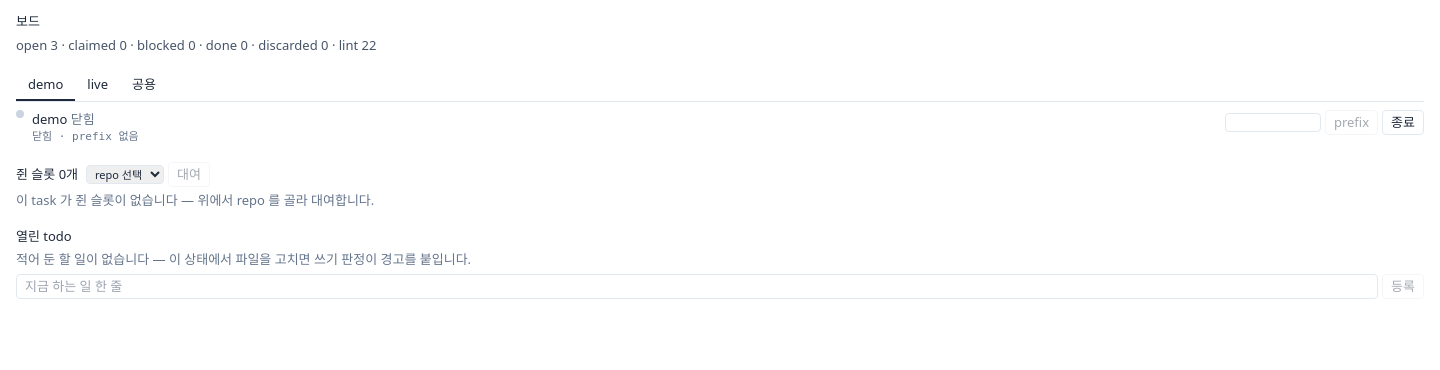
Test: task 가 쥔 슬롯 › 그 task 탭에는 그 task 가 쥔 슬롯만 선다
Press the mouse on the tab with test id "task-tab-live" at (98, 86), box [75, 71, 120, 100]
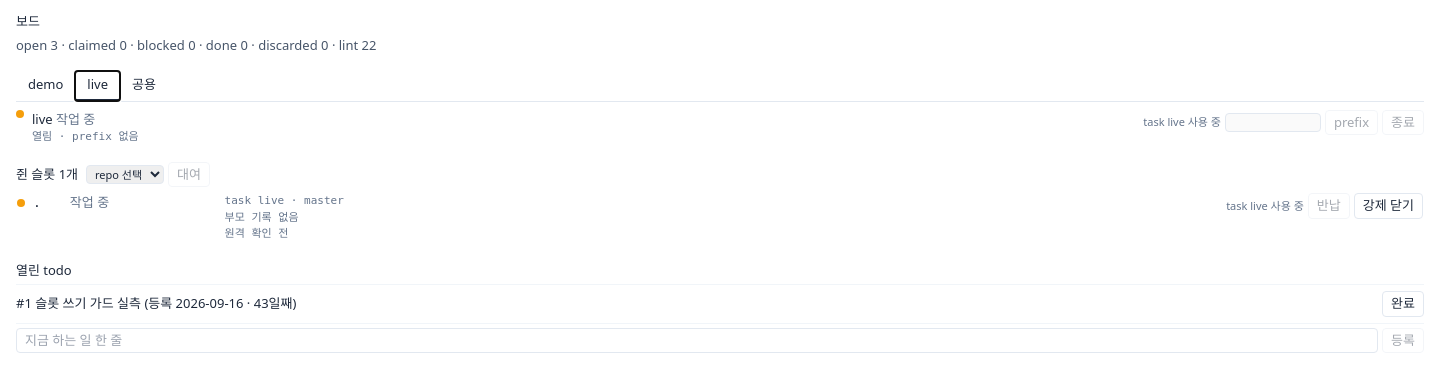
Expected: the row with test id "slot-." is shown, [16, 191, 1424, 244]
